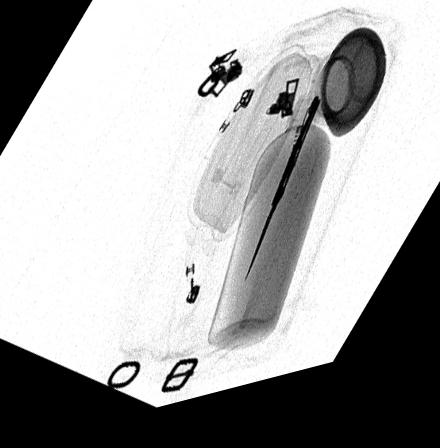Knife: (241, 111, 320, 297)
